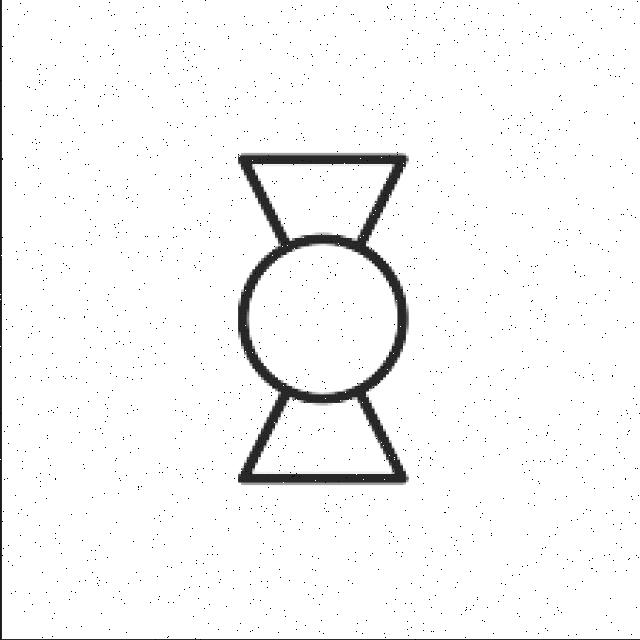Ball Valve: (154, 94, 480, 540)
